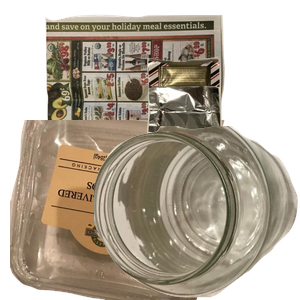glass: (94, 126, 300, 300)
paper: (42, 12, 260, 185)
plastic: (10, 120, 227, 300)
trash: (144, 55, 300, 197)
